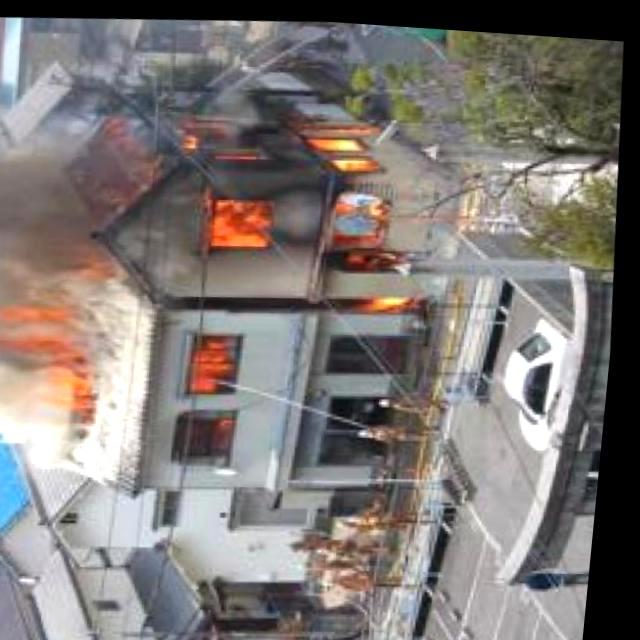fire: (156, 91, 436, 322), (5, 304, 110, 436), (183, 329, 249, 431)
